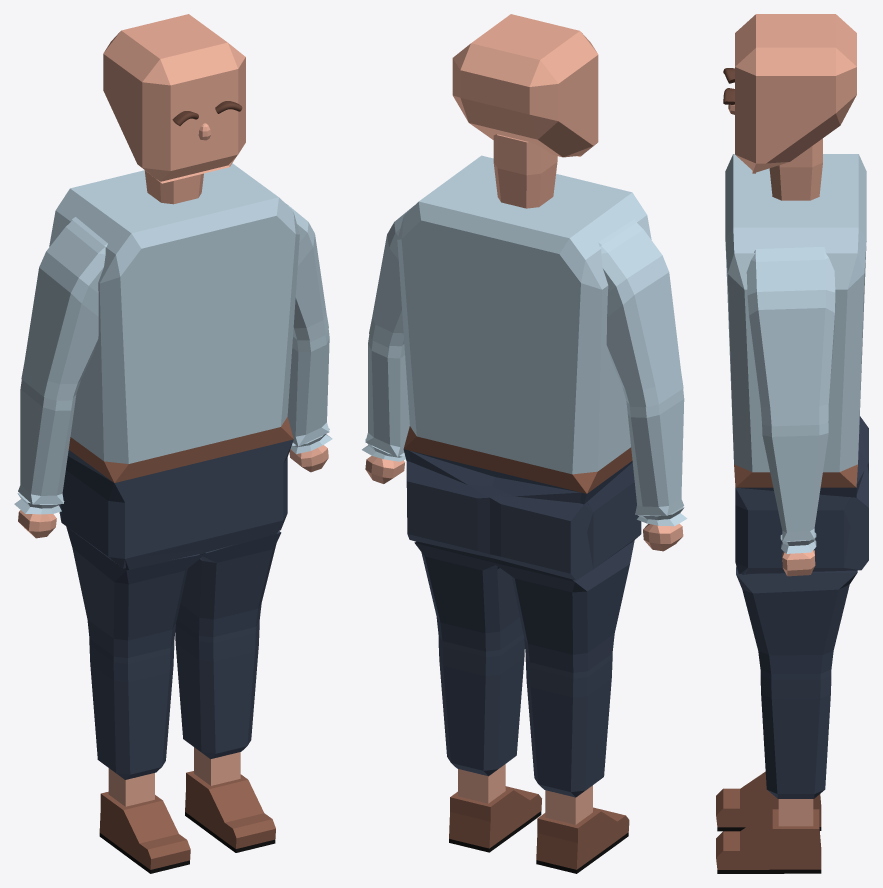
File: office-worker.glb
The picture shows the model from 3 angles, left to right: view 1: azimuth 30°, elevation 25°; view 2: azimuth 150°, elevation 25°; view 3: azimuth 270°, elevation 25°; orthographic projection. The views are drawn at different scales.
Parts seen in each view (by area): view 1: body, arms, head; view 2: body, arms, head; view 3: body, arms, head, eybrows.
Boxes of the visible parts, <box> form: body: <box>49,163,299,873</box>; arms: <box>14,201,332,538</box>; head: <box>103,14,245,183</box>; body: <box>397,134,651,873</box>; arms: <box>362,205,687,551</box>; head: <box>452,14,598,157</box>; body: <box>716,138,868,873</box>; arms: <box>746,246,835,576</box>; head: <box>735,14,856,173</box>; eybrows: <box>723,68,734,104</box>.
Bounding box in the file's own units: 11.4 × 28.12 × 4.8.
